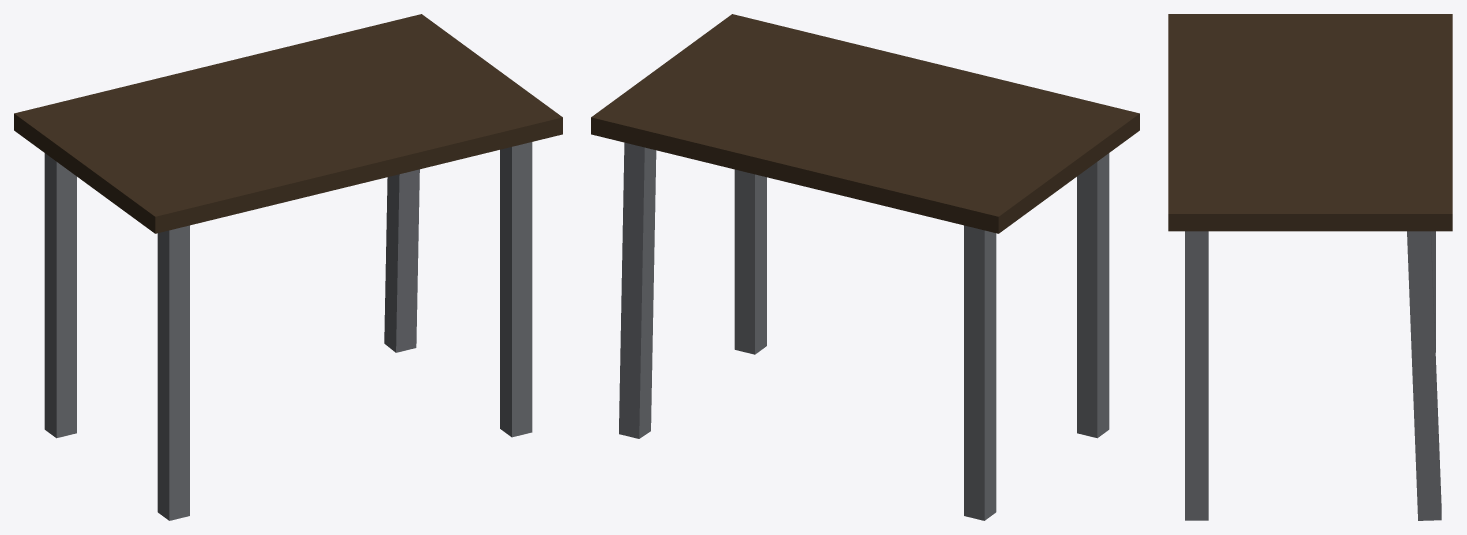
Rendered from welt_klapptisch.glb.
The picture shows the model from 3 angles, left to right: view 1: azimuth 30°, elevation 25°; view 2: azimuth 150°, elevation 25°; view 3: azimuth 270°, elevation 25°; orthographic projection.
Parts seen in each view (by area): view 1: platte, bein_1, bein_0, bein_2, bein_3; view 2: platte, bein_2, bein_3, bein_0, bein_1; view 3: platte, bein_3, bein_1, bein_2.
Part boxes in pixels (x1,y1,x2,y2): platte: (14,14,562,233); bein_1: (500,142,532,437); bein_0: (157,225,189,520); bein_2: (44,153,76,438); bein_3: (384,169,419,352); platte: (591,14,1139,233); bein_2: (964,225,996,520); bein_3: (619,142,656,438); bein_0: (1077,153,1109,438); bein_1: (734,169,766,354); platte: (1168,14,1452,231); bein_3: (1407,231,1441,520); bein_1: (1185,231,1208,520); bein_2: (1431,231,1435,352).
Bounding box in the file's own units: 1 × 0.7407 × 0.6.
